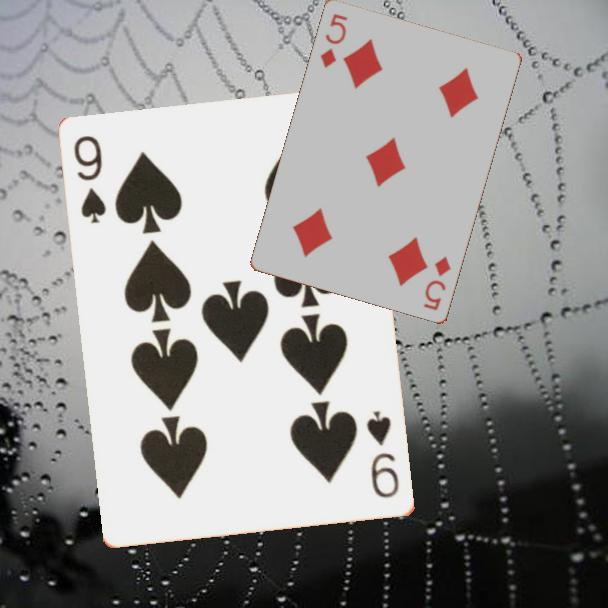d05: (420, 253, 454, 314), (317, 11, 351, 71)
s09: (70, 132, 110, 227), (363, 407, 403, 501)
